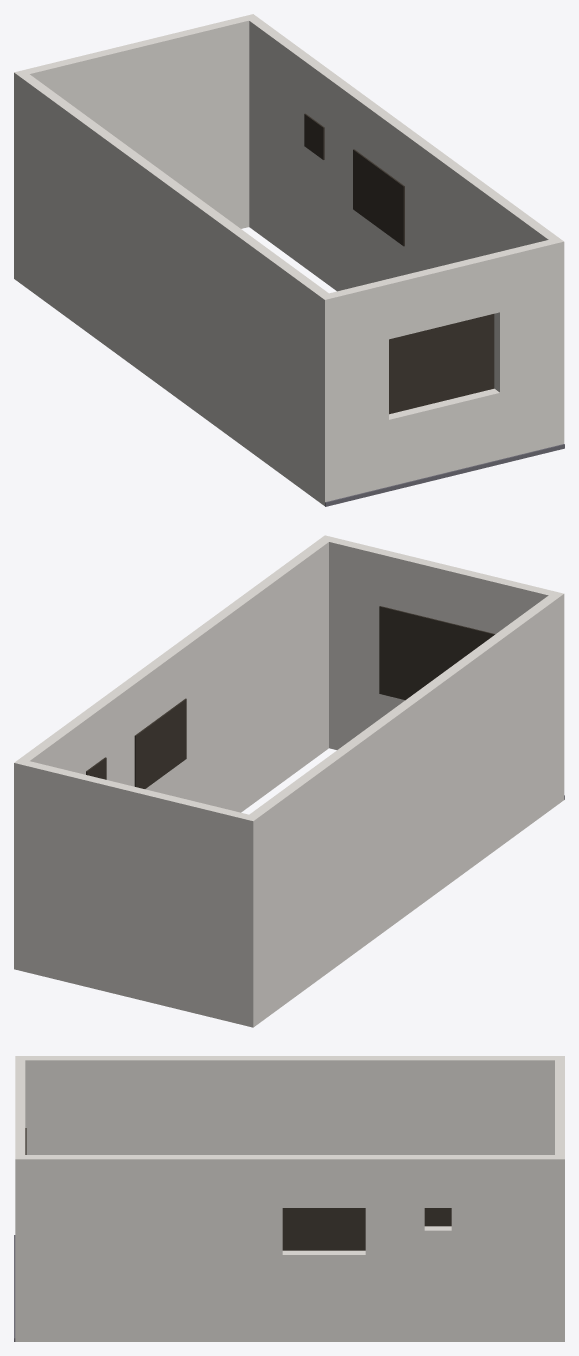
File: SM_Floor_NarrowUpperWindowEndR_White_364_01.gltf
The picture shows the model from 3 angles, top to bottom: view 1: azimuth 30°, elevation 25°; view 2: azimuth 150°, elevation 25°; view 3: azimuth 270°, elevation 25°; orthographic projection. The views are drawn at different scales.
Parts seen in each view (by area): view 1: SM_Floor_NarrowUpperWindowEndR_White_364_01; view 2: SM_Floor_NarrowUpperWindowEndR_White_364_01; view 3: SM_Floor_NarrowUpperWindowEndR_White_364_01.
Part boxes in pixels (bbox=[...]): SM_Floor_NarrowUpperWindowEndR_White_364_01: bbox=[14, 14, 564, 506]; SM_Floor_NarrowUpperWindowEndR_White_364_01: bbox=[14, 535, 564, 1027]; SM_Floor_NarrowUpperWindowEndR_White_364_01: bbox=[14, 1056, 564, 1341].
Bounding box in the file's own units: 3.64 × 3 × 8.21.
1 material, 1 textured.
